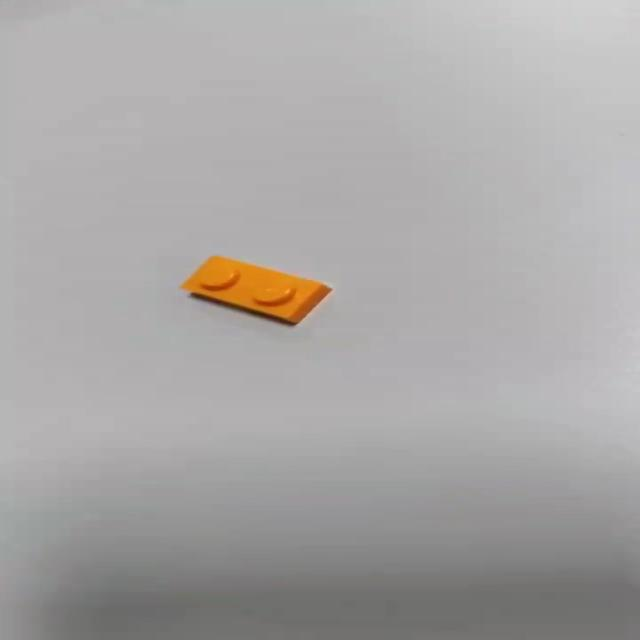C2x1x0: (178, 254, 333, 325)
